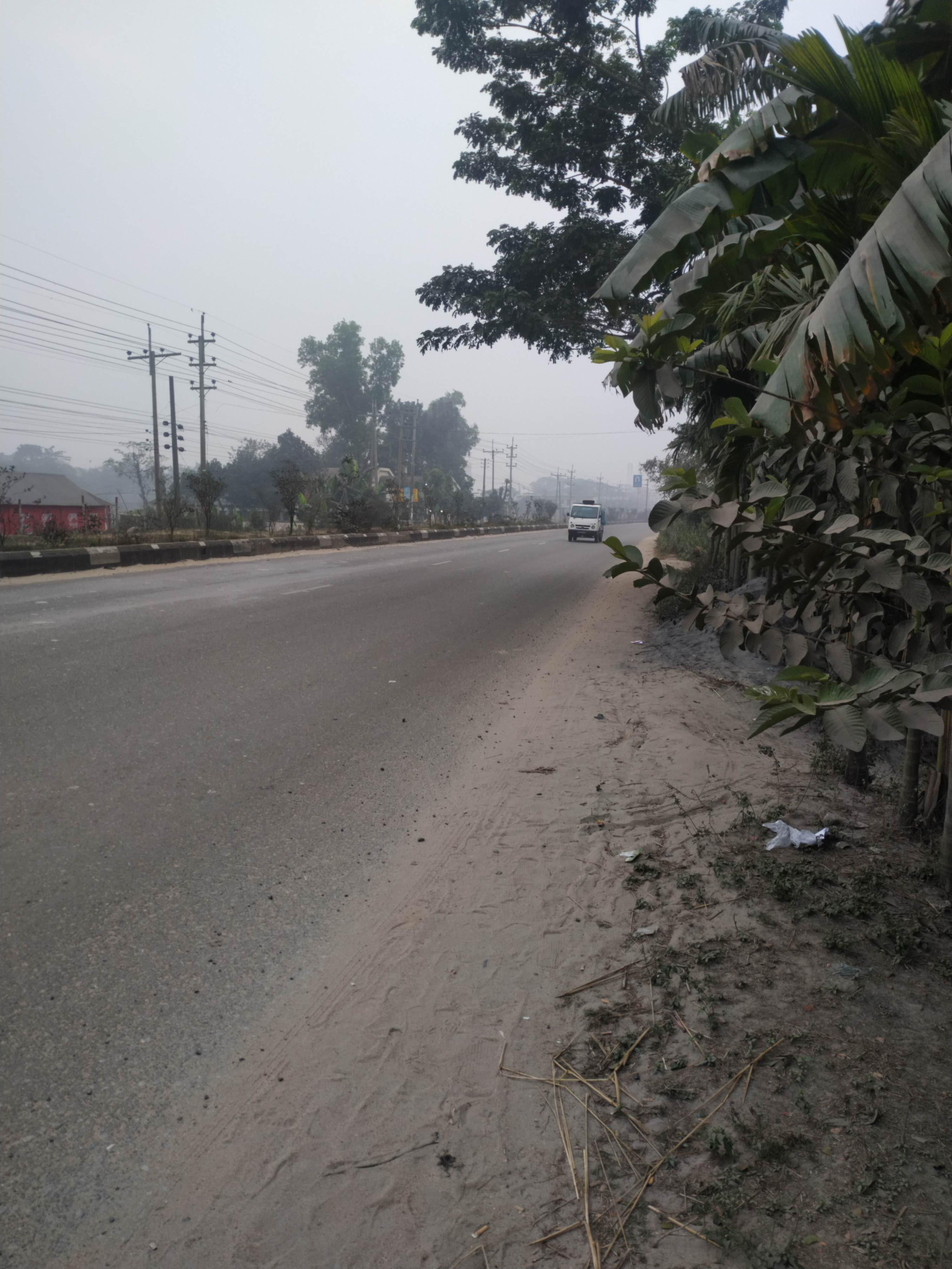Truck: (552, 486, 623, 564)
